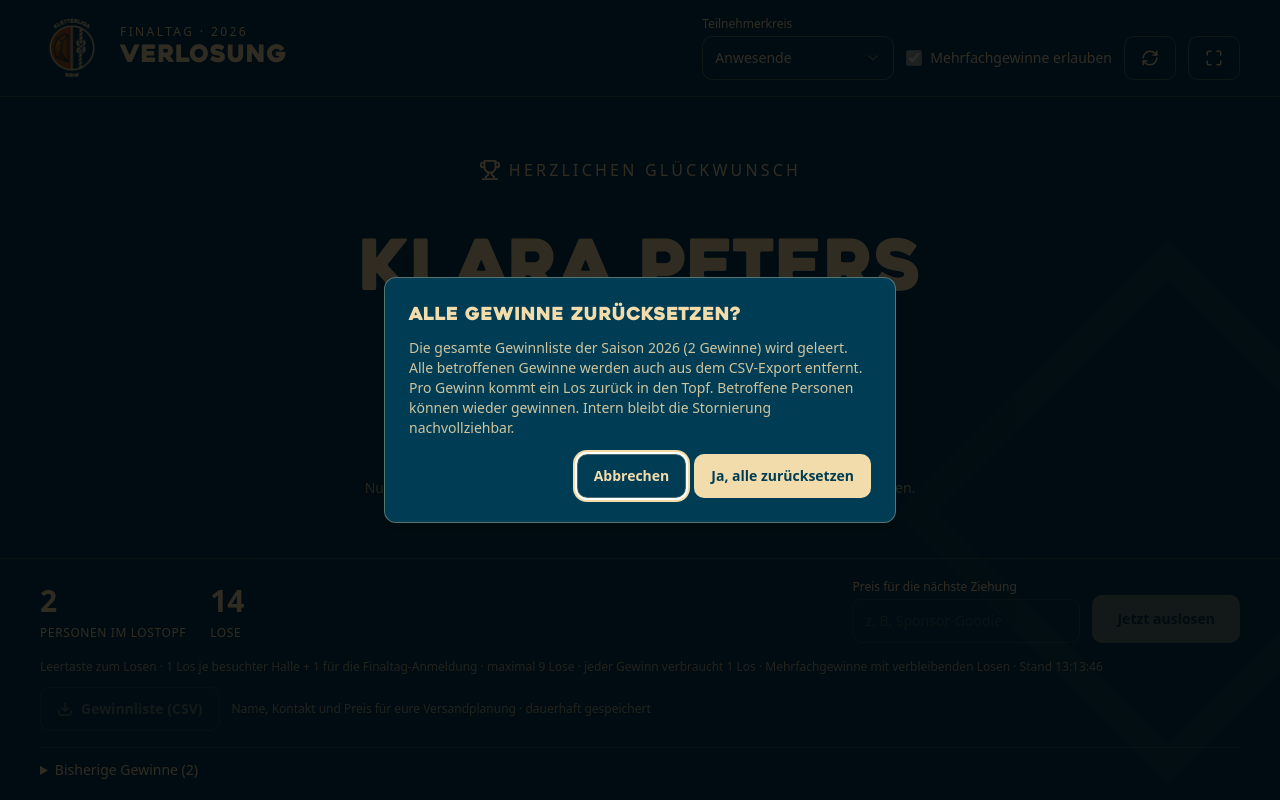
TV raffle › resets the exact eventwide history shown and retries the same cancellation request after a missing response
Earlier steps of the test are not shown.
Later steps or results of the test are not shown.
Expected: the dialog shows "(2 Gewinne)", [409, 338, 862, 377]
What coordinates should you click on to do the following:
click the button "Ja, alle zurücksetzen"
I would click on:
 (783, 476)
Its box is [694, 454, 871, 498].
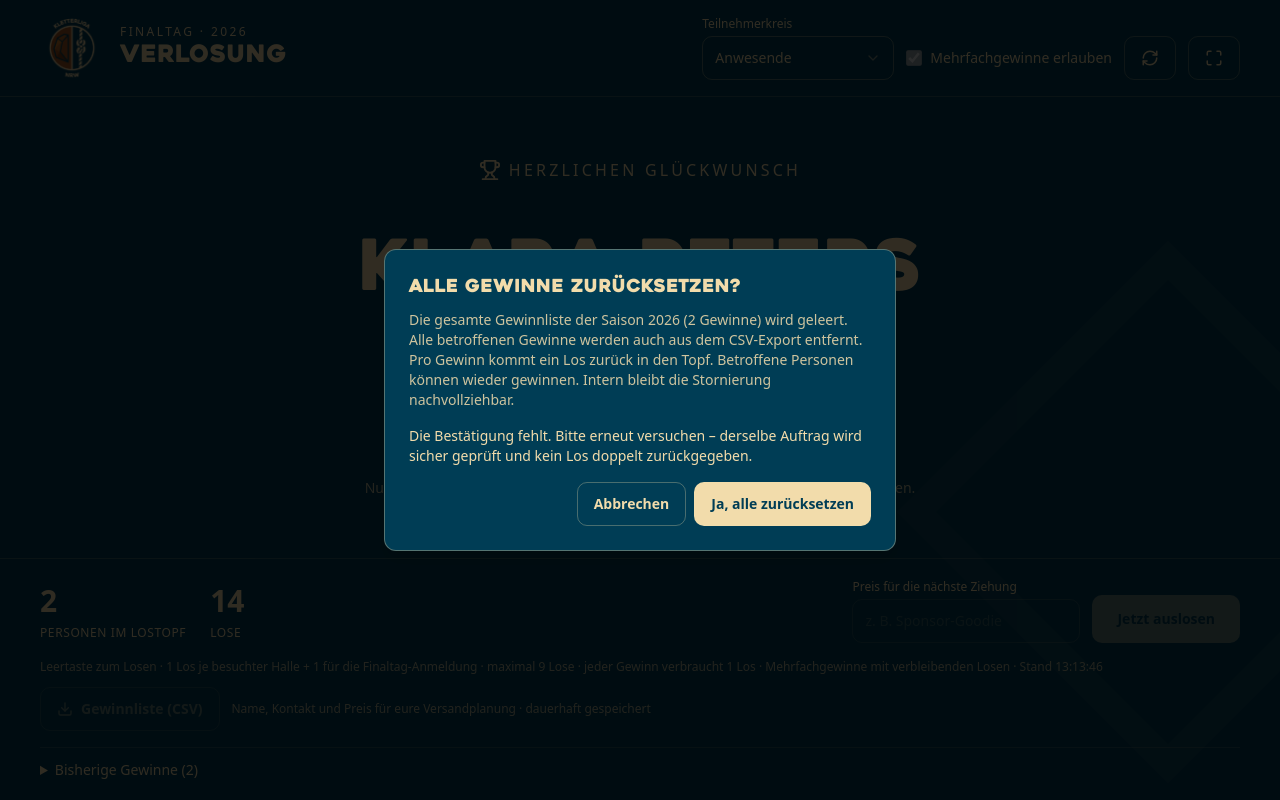
Now the message shows "kein Los doppelt zurückgegeben", box [409, 426, 862, 465]
